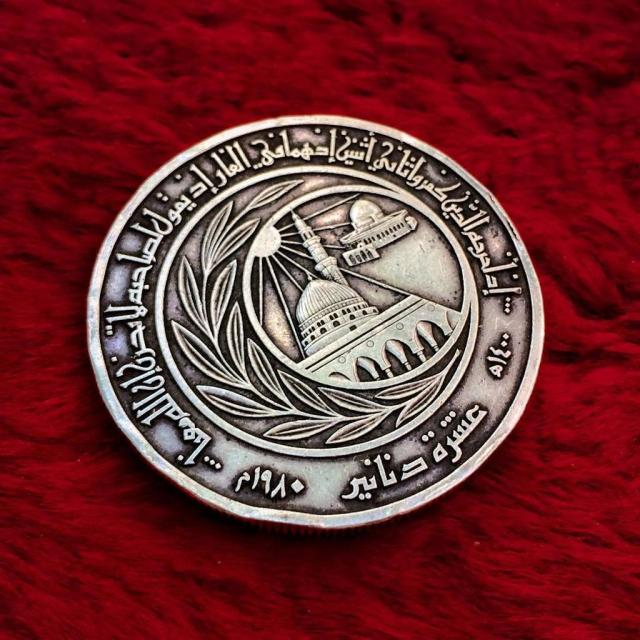Coin: (86, 112, 552, 532)
